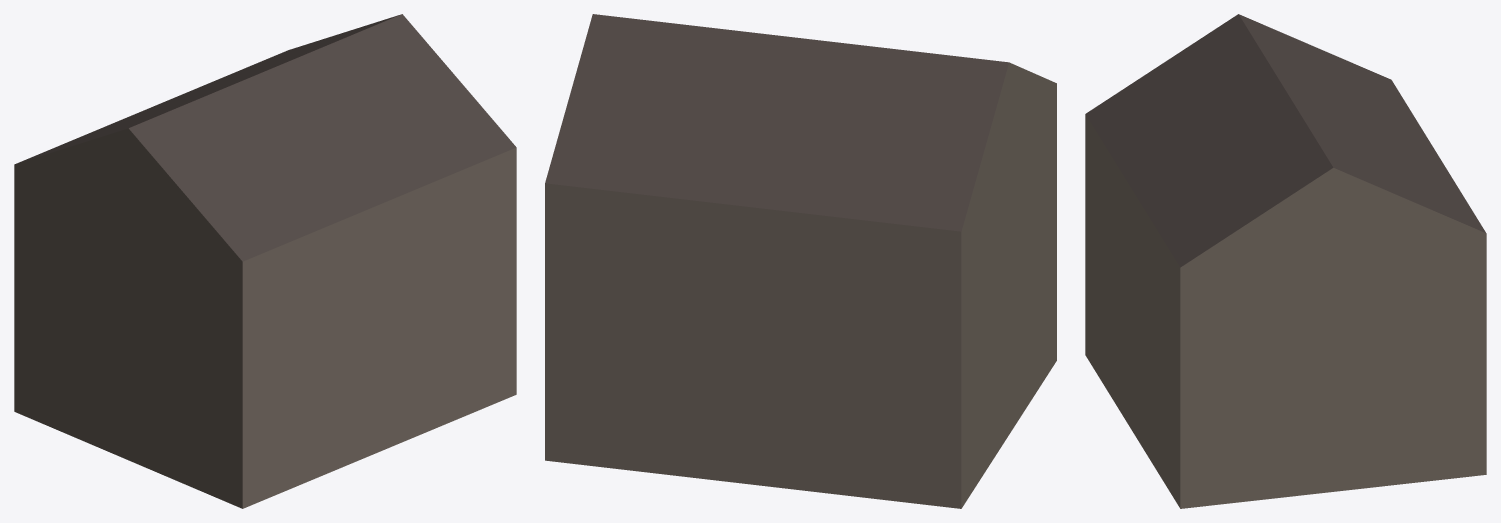
The picture shows the model from 3 angles, left to right: view 1: azimuth 30°, elevation 25°; view 2: azimuth 150°, elevation 25°; view 3: azimuth 270°, elevation 25°; orthographic projection. The views are drawn at different scales.
Parts seen in each view (by area): view 1: HP-w1365659906; view 2: HP-w1365659906; view 3: HP-w1365659906.
Boxes of the visible parts, box(x1,y1,x2,y2) form: HP-w1365659906: box(14, 14, 516, 508); HP-w1365659906: box(545, 14, 1056, 508); HP-w1365659906: box(1085, 14, 1486, 508).
Bounding box in the file's own units: 10.01 × 8.06 × 9.04.
